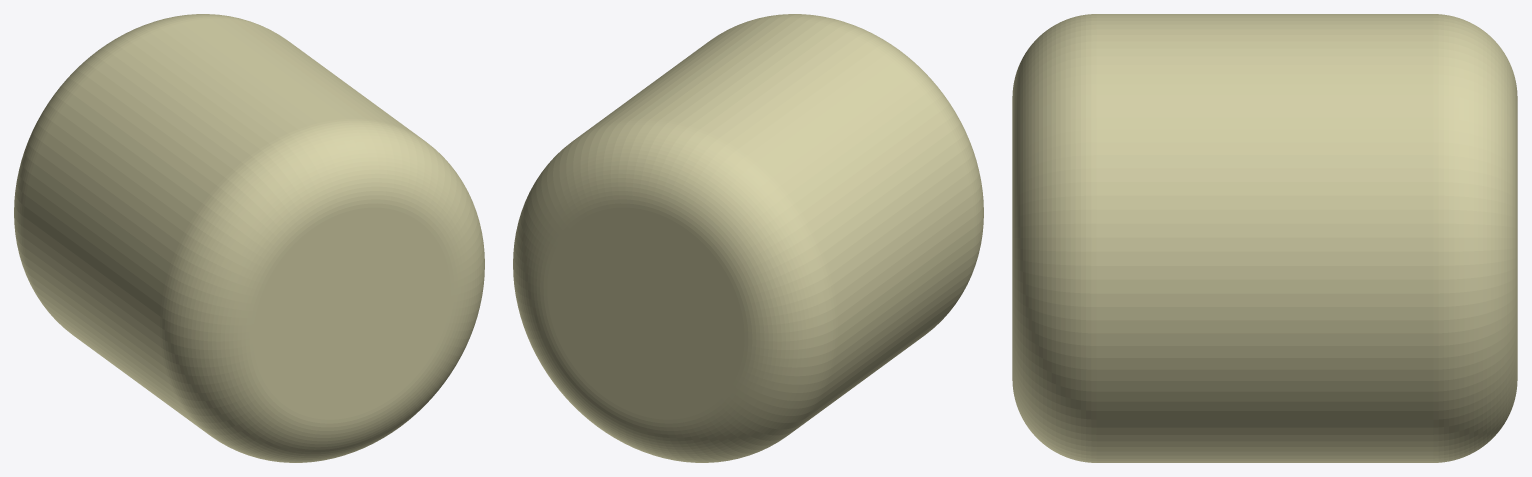
Rendered from rounded_cylinder.glb.
The picture shows the model from 3 angles, left to right: view 1: azimuth 30°, elevation 25°; view 2: azimuth 150°, elevation 25°; view 3: azimuth 270°, elevation 25°; orthographic projection. The views are drawn at different scales.
Parts seen in each view (by area): view 1: world; view 2: world; view 3: world.
Part boxes in pixels (left/top/right/bottom): world: left=14, top=14, right=484, bottom=462; world: left=513, top=14, right=983, bottom=462; world: left=1012, top=14, right=1517, bottom=462.
Size of the model in its own units: 16 by 16 by 18.
